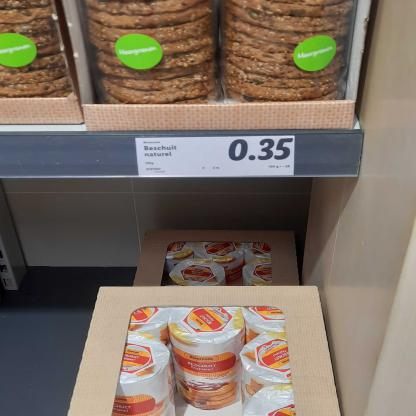prtg: (136, 136, 296, 177)
